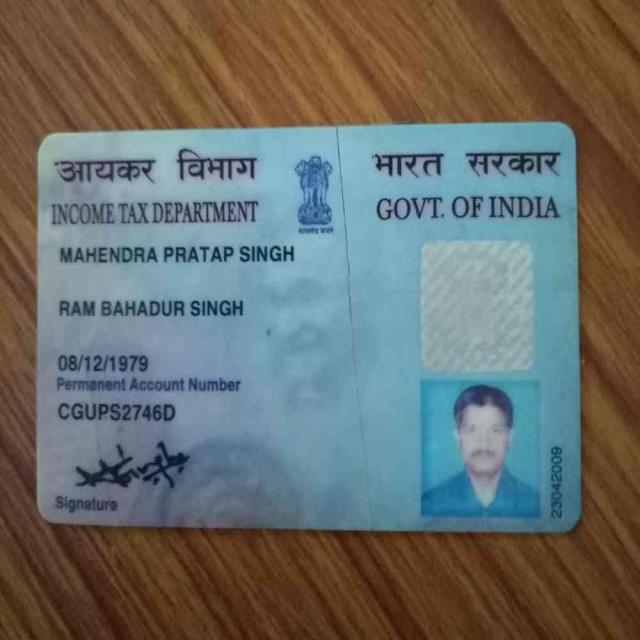pan_card: (38, 125, 570, 526)
